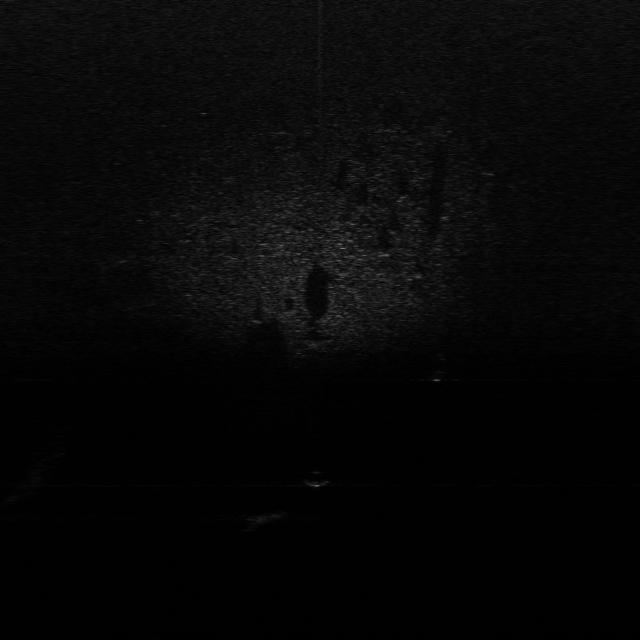ball: (303, 465, 332, 488)
square cage: (237, 508, 293, 528)
tyre: (426, 351, 452, 384)
